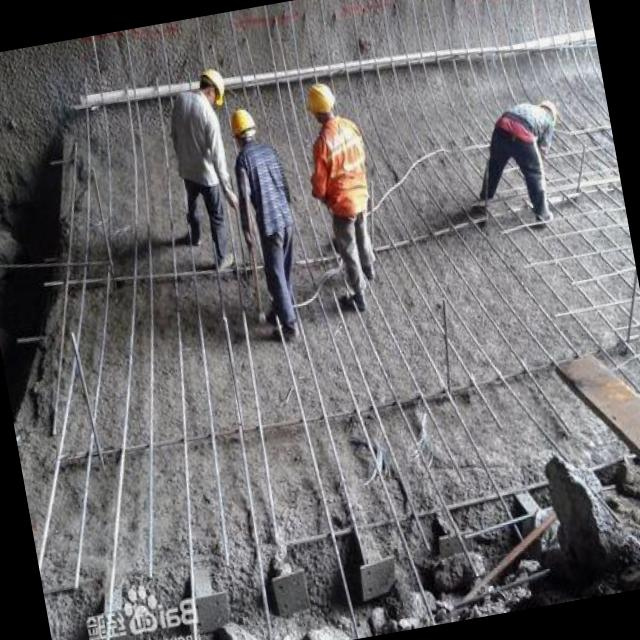helmet: (299, 76, 345, 122), (222, 102, 262, 143)
no-vest: (160, 82, 233, 204)
vest: (298, 110, 382, 227), (226, 130, 298, 250)
